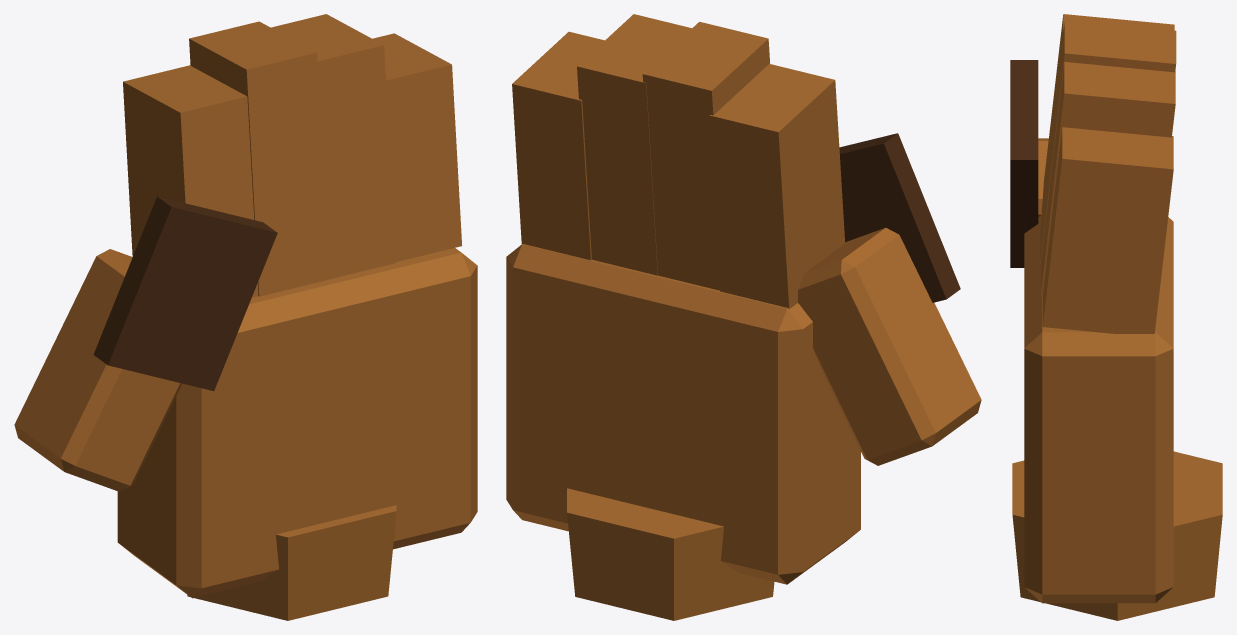
Rendered from Prop_WZ_Glove_LOD1.glb.
The picture shows the model from 3 angles, left to right: view 1: azimuth 30°, elevation 25°; view 2: azimuth 150°, elevation 25°; view 3: azimuth 270°, elevation 25°; orthographic projection. The views are drawn at different scales.
Visible parts, largest first — view 1: Prop_WZ_Glove; view 2: Prop_WZ_Glove; view 3: Prop_WZ_Glove.
Boxes of the visible parts, x1,y1,x2,y2 form: Prop_WZ_Glove: (14, 14, 477, 620); Prop_WZ_Glove: (506, 14, 981, 620); Prop_WZ_Glove: (1010, 14, 1222, 620).
Size of the model in its own units: 0.2512 by 0.3078 by 0.1138.
